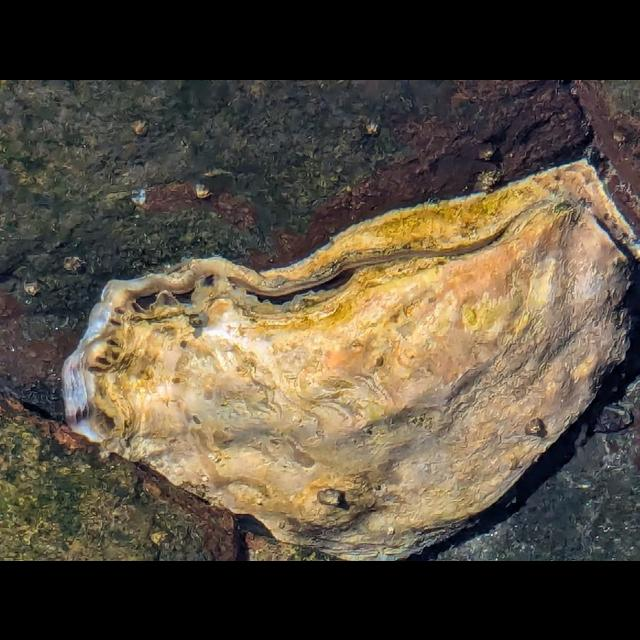Oyster-Open: (61, 156, 640, 560)
